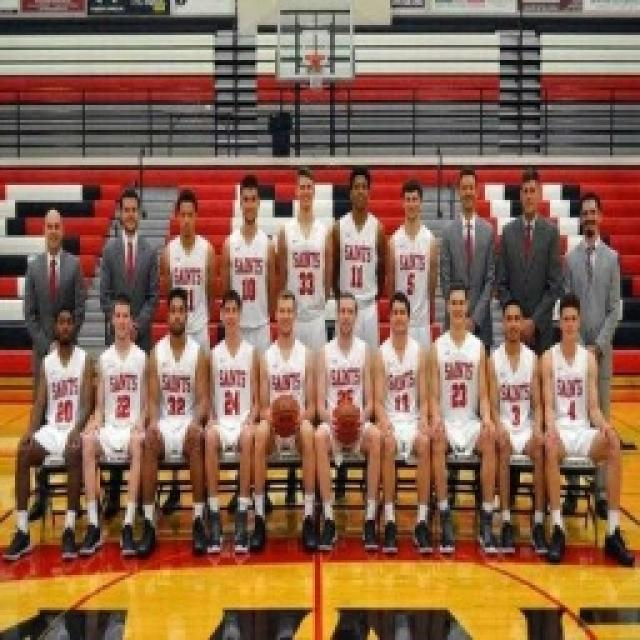rim: (322, 396, 368, 451), (266, 393, 304, 438)
